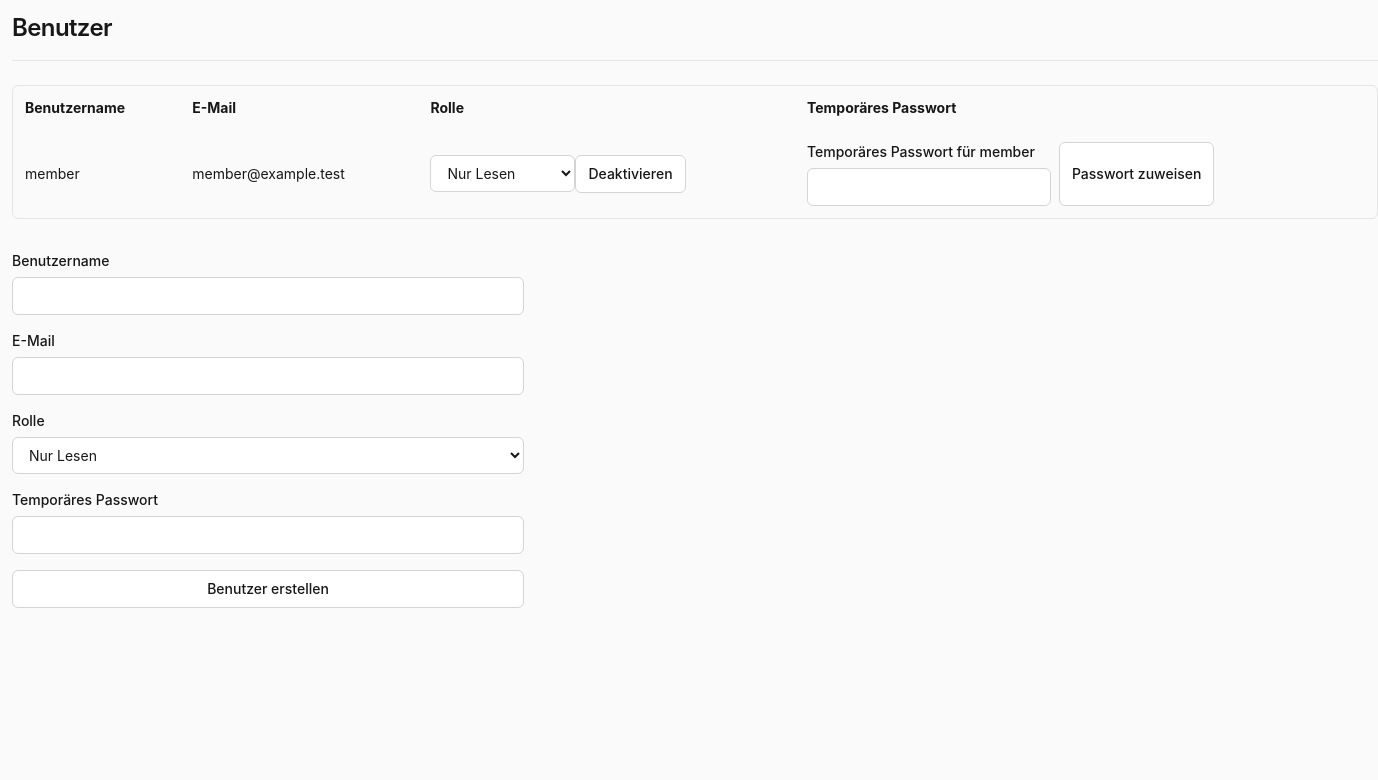
user administration › assigns a temporary password and presents translated errors with focus
Type "a replacement temporary password" into the password field labelled "Temporäres Passwort für member" at {"x": 929, "y": 187}, box [807, 168, 1051, 206]
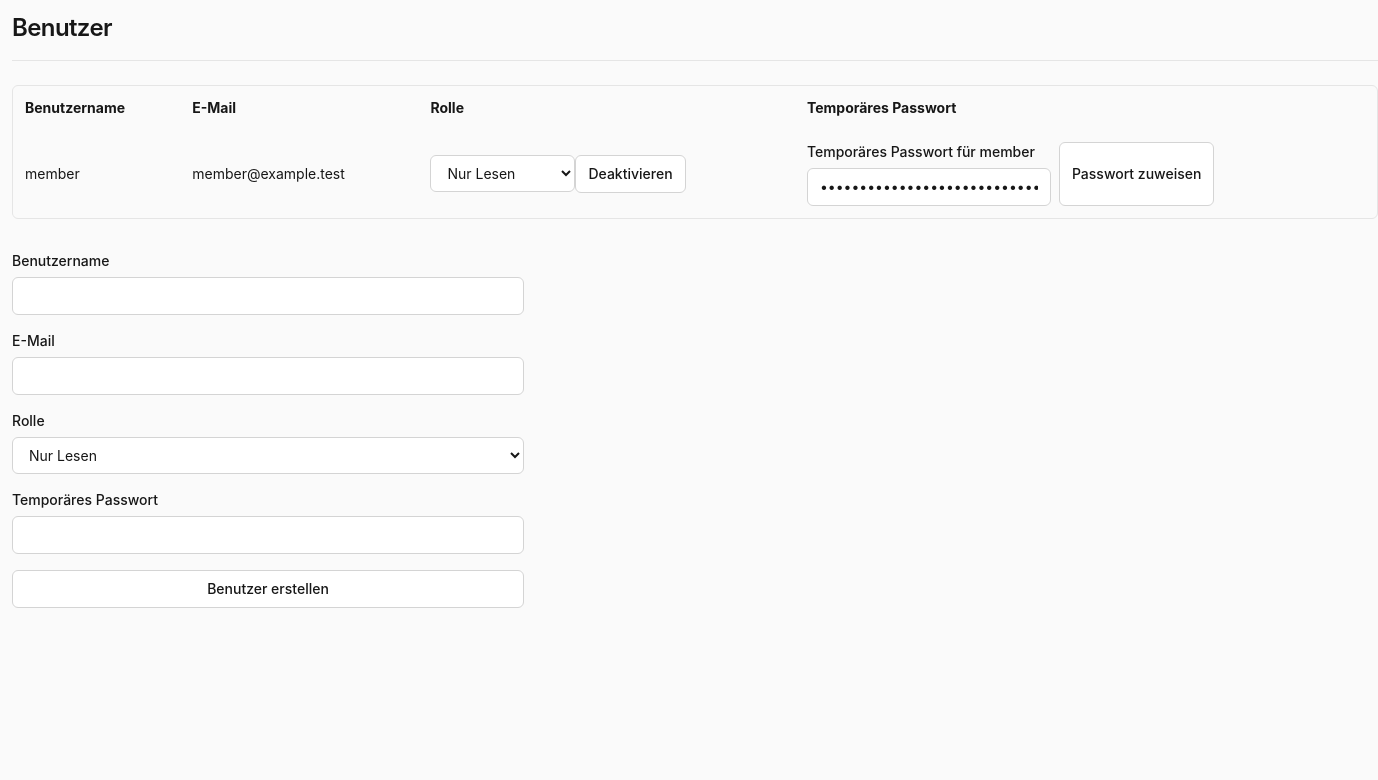
Click the button "Passwort zuweisen" at {"x": 1137, "y": 174}, box [1059, 142, 1214, 206]
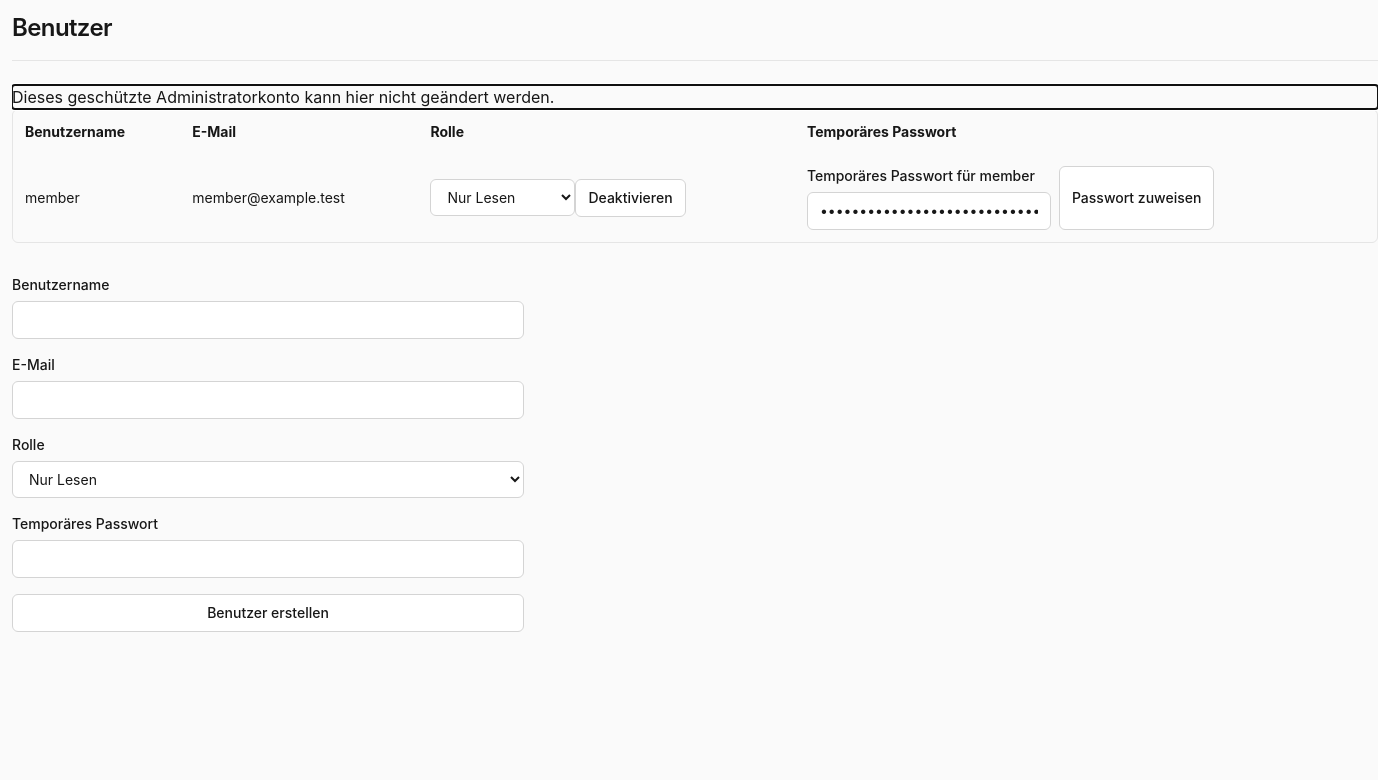
expect the message reads "Dieses geschützte Administratorkonto kann hier nicht geändert werden.": met, box [12, 87, 554, 107]
